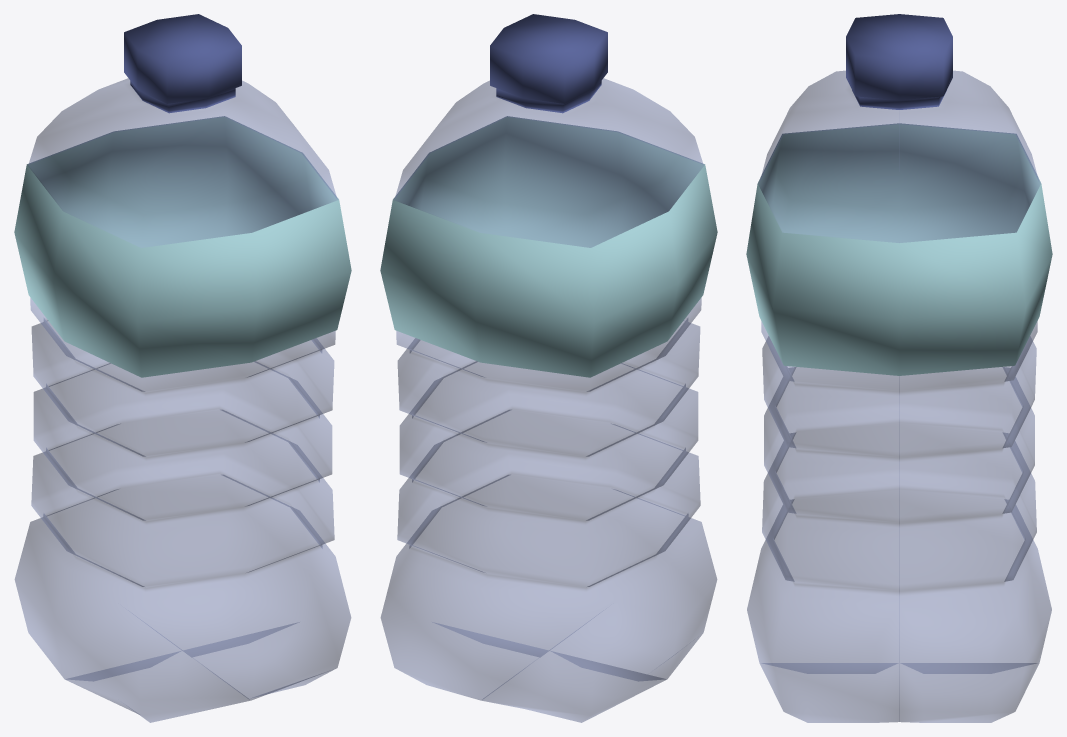
The model's file is bottle_small.glb.
The picture shows the model from 3 angles, left to right: view 1: azimuth 30°, elevation 25°; view 2: azimuth 150°, elevation 25°; view 3: azimuth 270°, elevation 25°; orthographic projection. The views are drawn at different scales.
Visible parts, largest first — view 1: small; view 2: small; view 3: small.
Part boxes in pixels (x1=…): small: x1=14, y1=14, x2=351, y2=722; small: x1=380, y1=14, x2=717, y2=722; small: x1=746, y1=14, x2=1052, y2=722.
Size of the model in its own units: 1.29 by 3.01 by 1.29.
